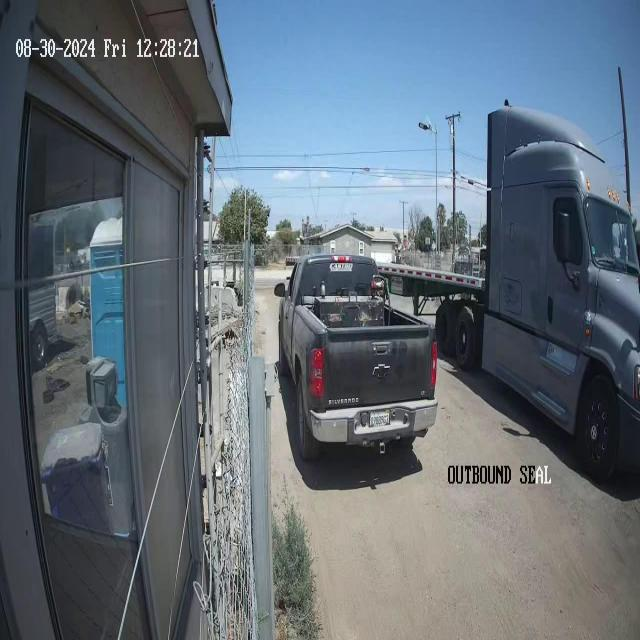TRUCK_IN: (436, 105, 640, 478)
